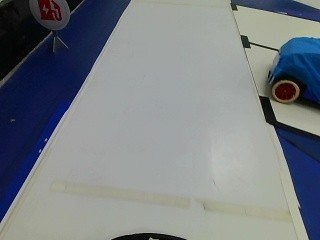battery: (29, 0, 70, 32)
car: (272, 38, 318, 108)
